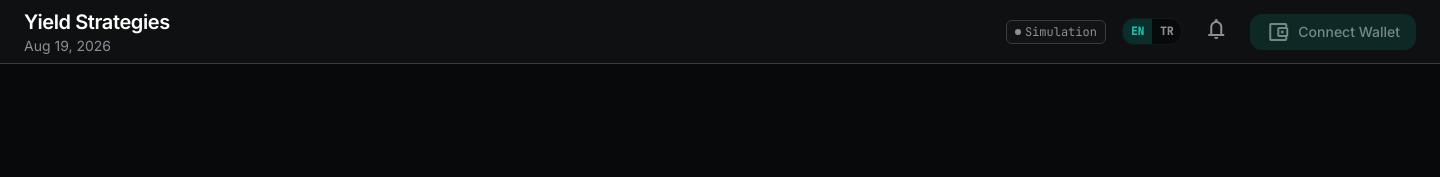
Test: TopNav component › shows empty state when no notifications
Click the button named "Notifications": [1216, 32] box x1=1198 y1=10 x2=1234 y2=52
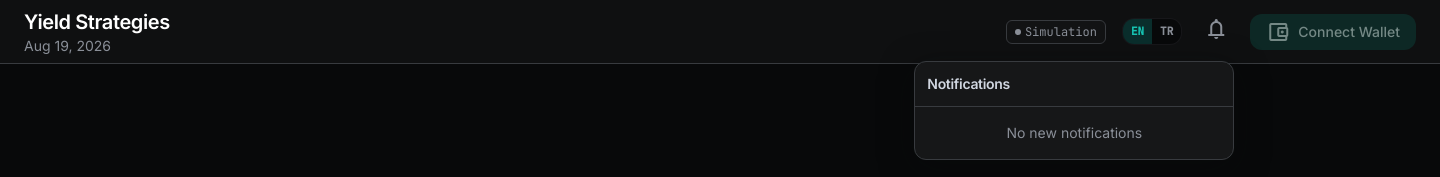
Now the text "No new notifications" is shown, box x1=1006 y1=124 x2=1142 y2=140
